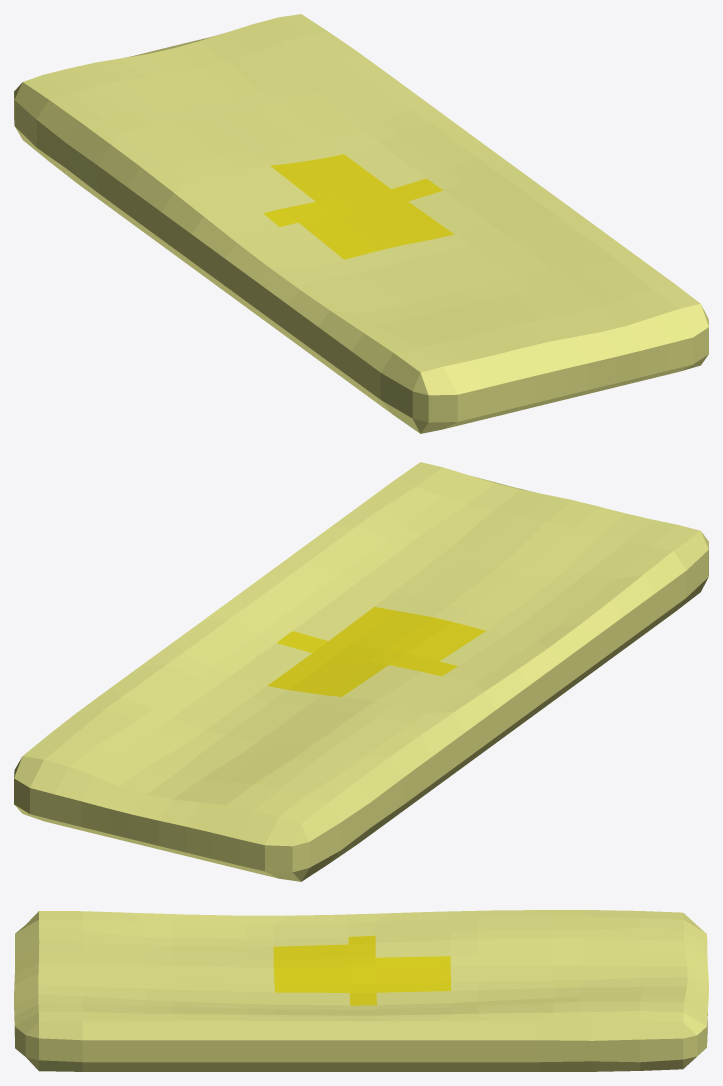
The model's file is mattress_with_piss.fbx.
The picture shows the model from 3 angles, top to bottom: view 1: azimuth 30°, elevation 25°; view 2: azimuth 150°, elevation 25°; view 3: azimuth 270°, elevation 25°; orthographic projection. The views are drawn at different scales.
Visible parts, largest first — view 1: mattress001; view 2: mattress001; view 3: mattress001.
Boxes of the visible parts, left/top/right/bottom form: mattress001: left=14, top=14, right=708, bottom=433; mattress001: left=14, top=462, right=708, bottom=881; mattress001: left=14, top=910, right=708, bottom=1071.
Bounding box in the file's own units: 1896 × 389 × 4622.
